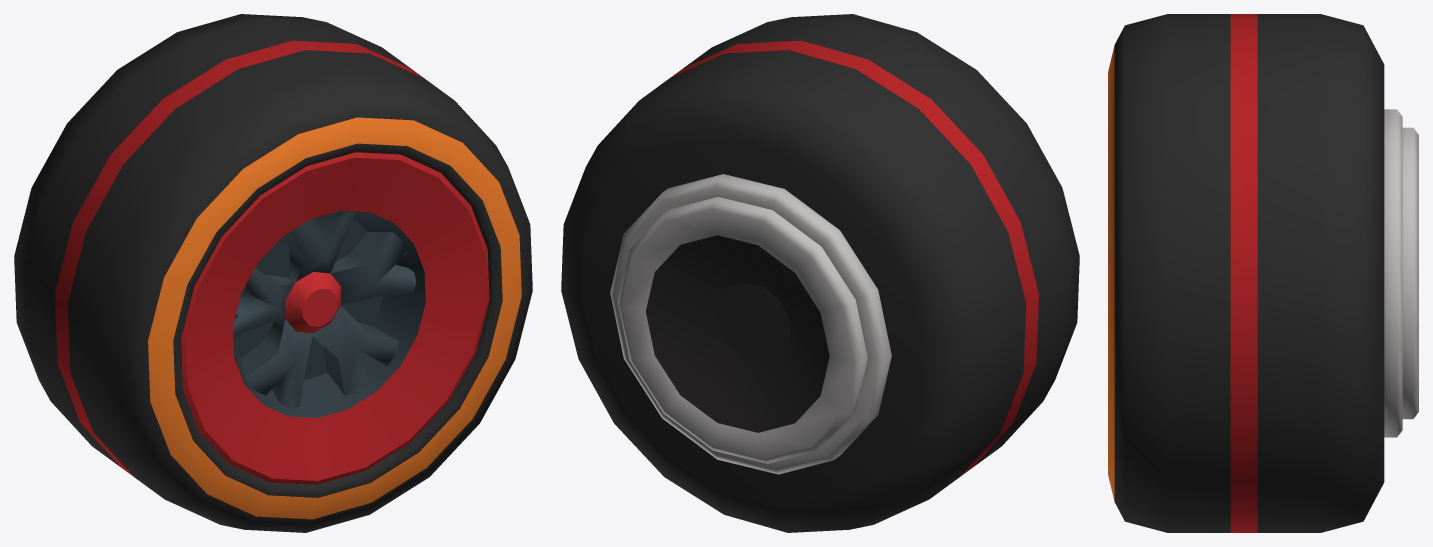
Rendered from Wheel_06.fbx.
3 views of the same model, side by side, from view 1: azimuth 30°, elevation 25°; view 2: azimuth 150°, elevation 25°; view 3: azimuth 270°, elevation 25° (orthographic). The views are drawn at different scales.
Visible parts, largest first — view 1: Wheel_06; view 2: Wheel_06; view 3: Wheel_06.
Part boxes in pixels (x1,y1,x2,y2): Wheel_06: [14, 14, 532, 532]; Wheel_06: [561, 14, 1079, 532]; Wheel_06: [1108, 14, 1418, 532].
Bounding box in the file's own units: 95 × 57.14 × 95.
